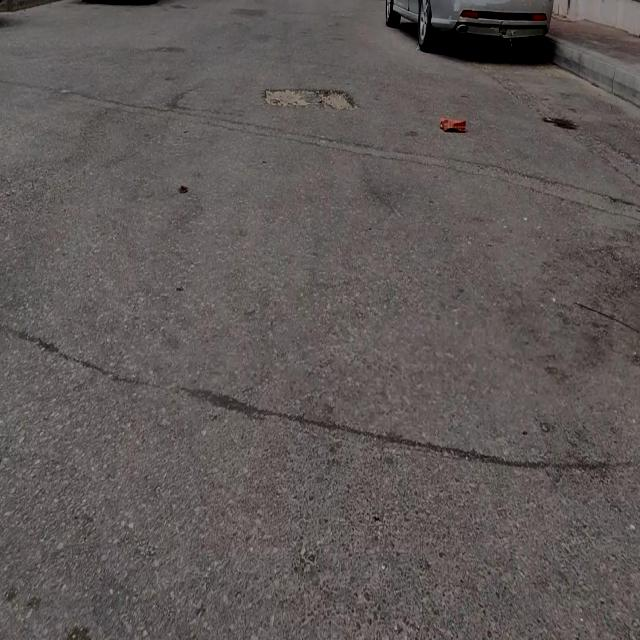Potholes: (264, 86, 357, 110)
